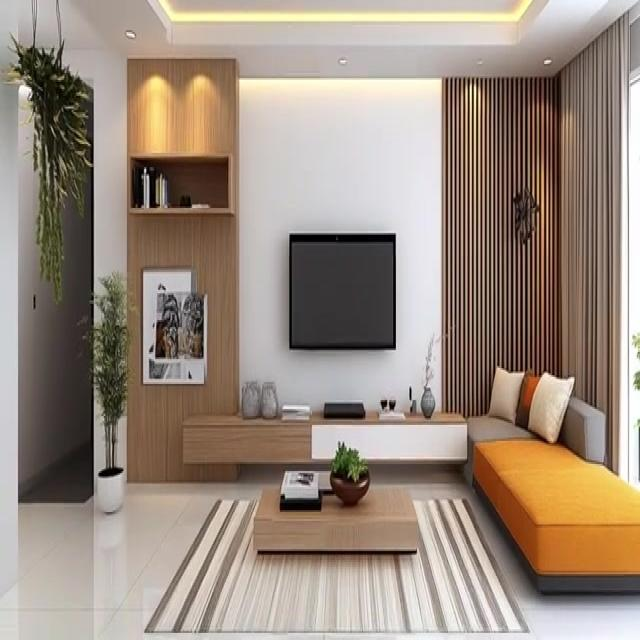obstacle: (466, 368, 639, 596), (181, 401, 469, 459), (252, 485, 418, 555)
